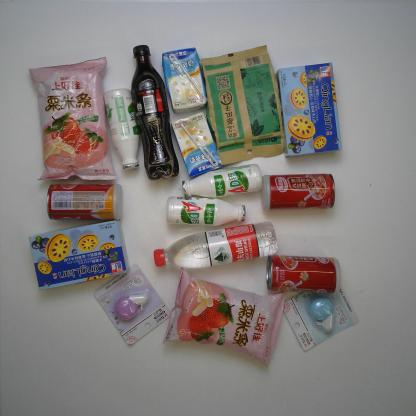Canned Food: (38, 179, 135, 220), (260, 253, 343, 295), (259, 170, 340, 210)
Dessert: (21, 218, 125, 290), (276, 62, 347, 158)
Dried Food: (198, 47, 293, 165)
Drink: (137, 224, 284, 276), (125, 45, 179, 179)
Milk: (99, 88, 146, 173), (169, 112, 228, 178), (172, 163, 264, 201), (160, 47, 210, 112), (169, 190, 252, 228)
Puffed Food: (173, 270, 287, 370), (24, 49, 111, 176)
Stationery: (94, 259, 168, 356), (272, 281, 360, 356)
